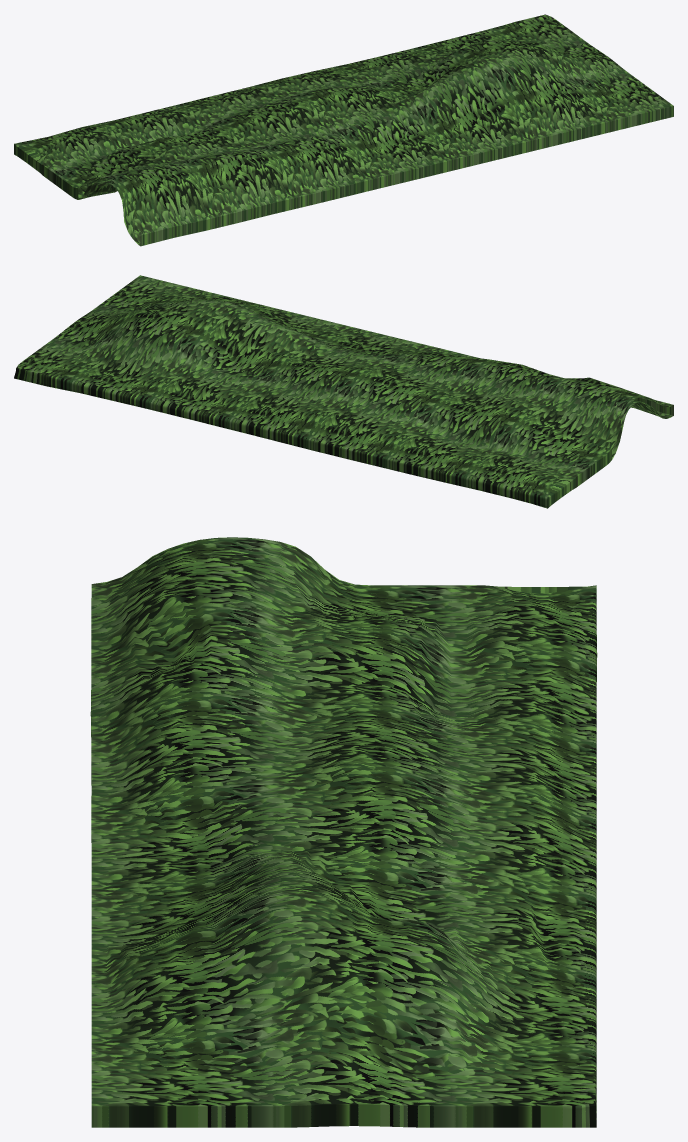
File: Grass_Hill 1.fbx
3 renders of one model, top to bottom at view 1: azimuth 30°, elevation 25°; view 2: azimuth 150°, elevation 25°; view 3: azimuth 270°, elevation 25°, orthographic. The views are drawn at different scales.
Visible parts, largest first — view 1: Plane.148; view 2: Plane.148; view 3: Plane.148.
Part boxes in pixels (x1,y1,x2,y2): Plane.148: (14,14,673,246); Plane.148: (14,275,673,508); Plane.148: (90,537,597,1127).
Bounding box in the file's own units: 2889 × 259 × 1185.
